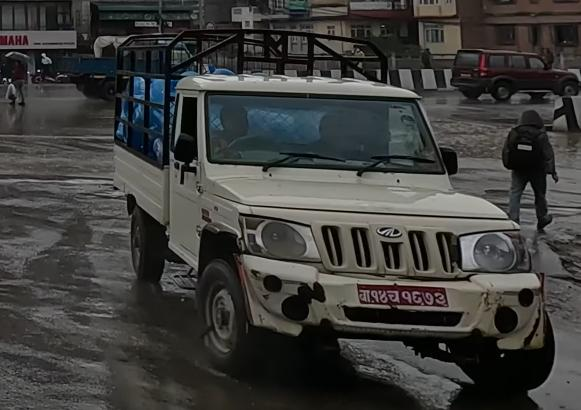SUV: (449, 45, 579, 104)
transport_vehicle: (108, 21, 558, 395)
